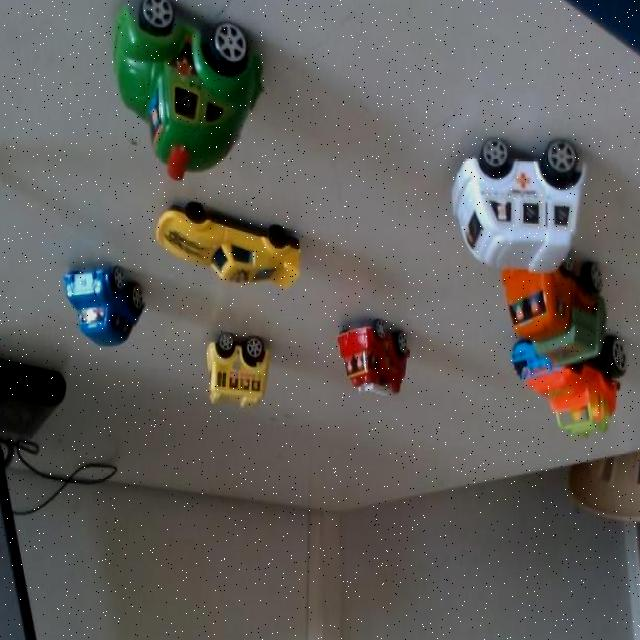car: (425, 111, 574, 295), (104, 9, 234, 166), (162, 186, 288, 302), (503, 331, 591, 443), (508, 251, 578, 373), (336, 299, 412, 409), (194, 317, 277, 413), (60, 256, 132, 351)
